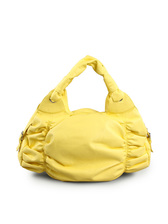bag: (11, 54, 159, 182)
